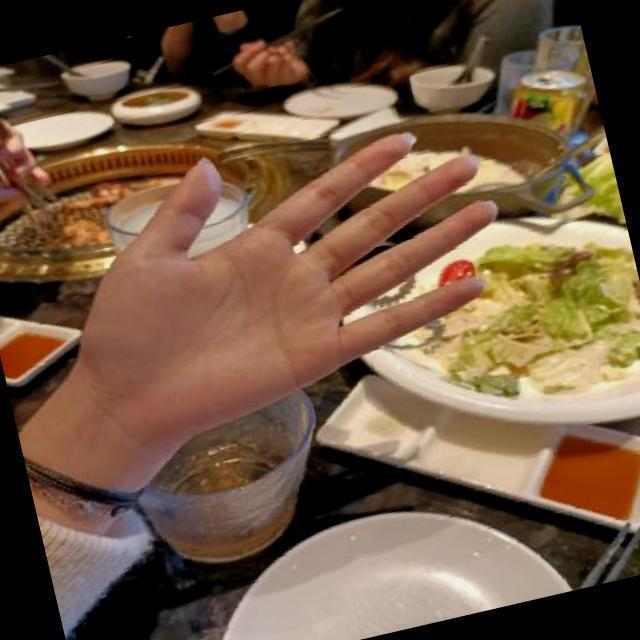hand: (21, 82, 550, 474)
